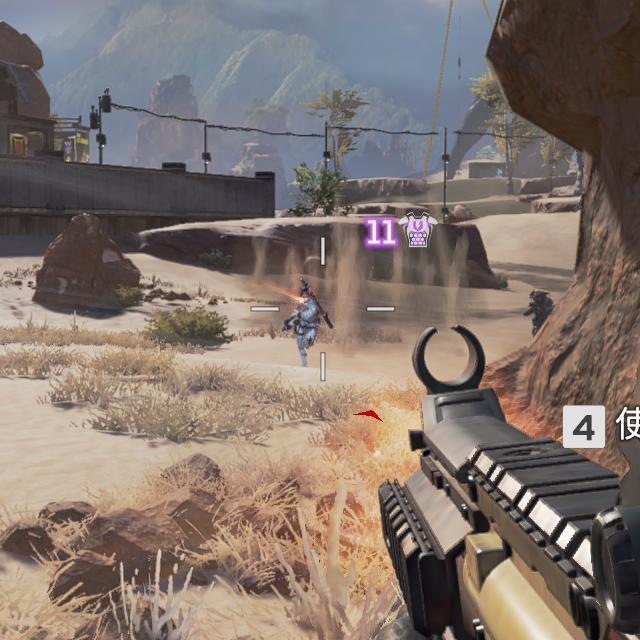avatar: (281, 283, 324, 368)
